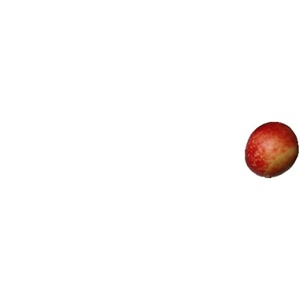nectarina: (245, 122, 300, 179)
